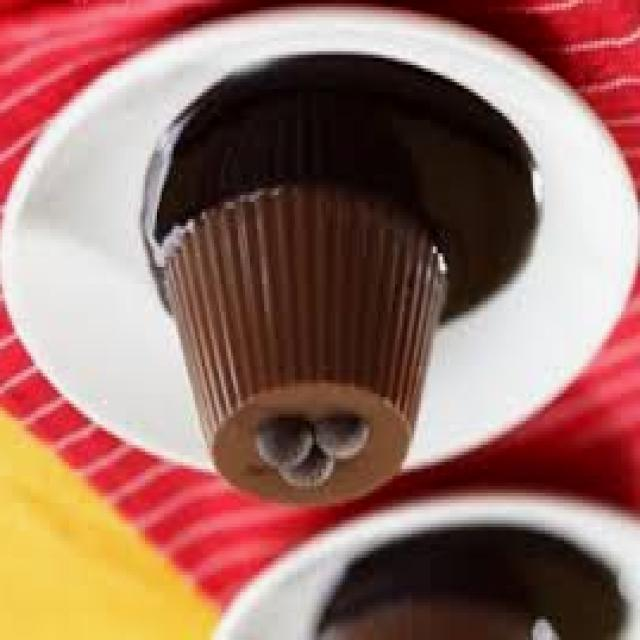puding: (140, 174, 440, 506)
